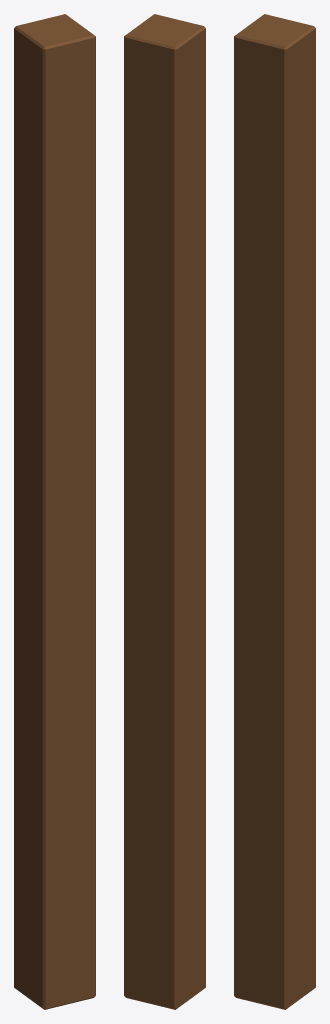
The model's file is hall_corner.glb.
3 views of the same model, side by side, from view 1: azimuth 30°, elevation 25°; view 2: azimuth 150°, elevation 25°; view 3: azimuth 330°, elevation 25° (orthographic).
Parts seen in each view (by area): view 1: pier; view 2: pier; view 3: pier.
Part boxes in pixels (box(x1,y1,x2,y2)): pier: box(14, 14, 95, 1009); pier: box(124, 14, 205, 1009); pier: box(234, 14, 315, 1009).
Size of the model in its own units: 0.3 by 5.2 by 0.3.
